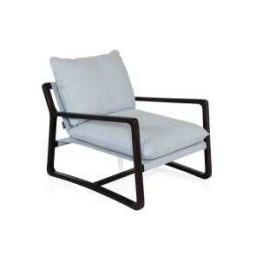Chair: (47, 56, 211, 209)
